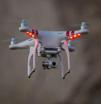UAV: (33, 79, 101, 104)
